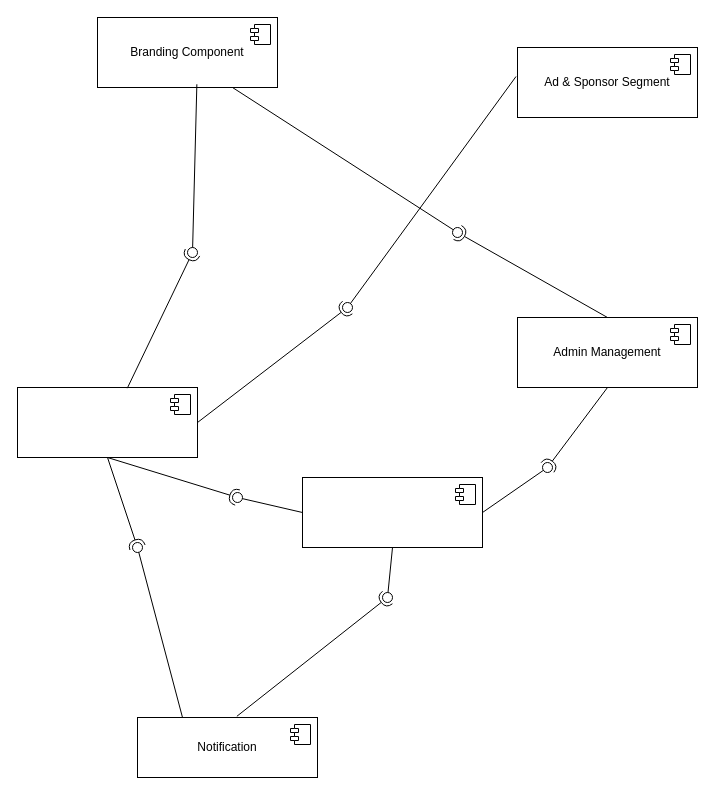
Some shapes in this 715 by 795 pixel diagram are drawn without their labels. Here are the shapes that lost their labels. From the top down, the box of each, then its label:
(16, 386, 198, 458): User Interface
(302, 476, 482, 548): Item Management
